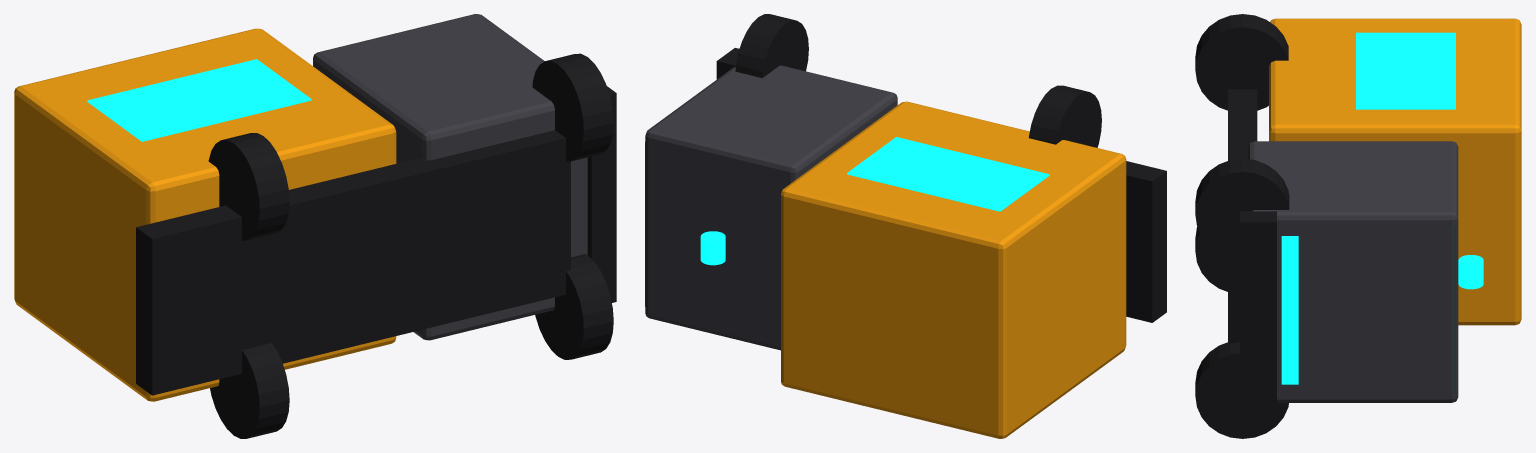
File: truck.glb
3 views of the same model, side by side, from view 1: azimuth 30°, elevation 25°; view 2: azimuth 150°, elevation 25°; view 3: azimuth 270°, elevation 25° (orthographic). The views are drawn at different scales.
Visible parts, largest first — view 1: Truck_Chassis, Truck_Cargo, Truck_Cab, Truck_SyncPanel, Truck_Wheel_RL, Truck_Wheel_FL, Truck_Wheel_FR, Truck_Wheel_RR, Truck_Bumper; view 2: Truck_Cargo, Truck_Cab, Truck_SyncPanel, Truck_Chassis, Truck_Wheel_FL, Truck_Wheel_RL, Truck_Beacon; view 3: Truck_Cab, Truck_Cargo, Truck_SyncPanel, Truck_Bumper, Truck_Wheel_RL, Truck_Wheel_FL, Truck_Wheel_FR, Truck_Chassis, Truck_Headlights, Truck_Wheel_RR, Truck_Beacon, Truck_Windshield.
Part boxes in pixels (bbox=[...]): Truck_Chassis: bbox=[136, 130, 570, 395]; Truck_Cargo: bbox=[14, 28, 396, 401]; Truck_Cab: bbox=[313, 14, 587, 340]; Truck_SyncPanel: bbox=[87, 59, 311, 141]; Truck_Wheel_RL: bbox=[208, 133, 289, 240]; Truck_Wheel_FL: bbox=[532, 53, 613, 161]; Truck_Wheel_FR: bbox=[535, 254, 613, 359]; Truck_Wheel_RR: bbox=[210, 343, 289, 438]; Truck_Bumper: bbox=[587, 86, 616, 302]; Truck_Cargo: bbox=[781, 101, 1126, 438]; Truck_Cab: bbox=[645, 65, 897, 350]; Truck_SyncPanel: bbox=[847, 137, 1049, 211]; Truck_Chassis: bbox=[1126, 161, 1166, 322]; Truck_Wheel_FL: bbox=[735, 14, 808, 77]; Truck_Wheel_RL: bbox=[1028, 85, 1101, 147]; Truck_Beacon: bbox=[700, 231, 725, 265]; Truck_Cab: bbox=[1248, 141, 1458, 402]; Truck_Cargo: bbox=[1269, 18, 1521, 325]; Truck_SyncPanel: bbox=[1356, 32, 1455, 109]; Truck_Bumper: bbox=[1240, 211, 1276, 412]; Truck_Wheel_RL: bbox=[1195, 14, 1288, 110]; Truck_Wheel_FL: bbox=[1195, 158, 1289, 257]; Truck_Wheel_FR: bbox=[1195, 342, 1288, 438]; Truck_Chassis: bbox=[1228, 89, 1257, 344]; Truck_Headlights: bbox=[1281, 236, 1298, 384]; Truck_Wheel_RR: bbox=[1195, 227, 1227, 291]; Truck_Beacon: bbox=[1458, 255, 1483, 289]; Truck_Windshield: bbox=[1454, 226, 1455, 392].
Size of the model in its own units: 4.72 by 2.8 by 3.1.
